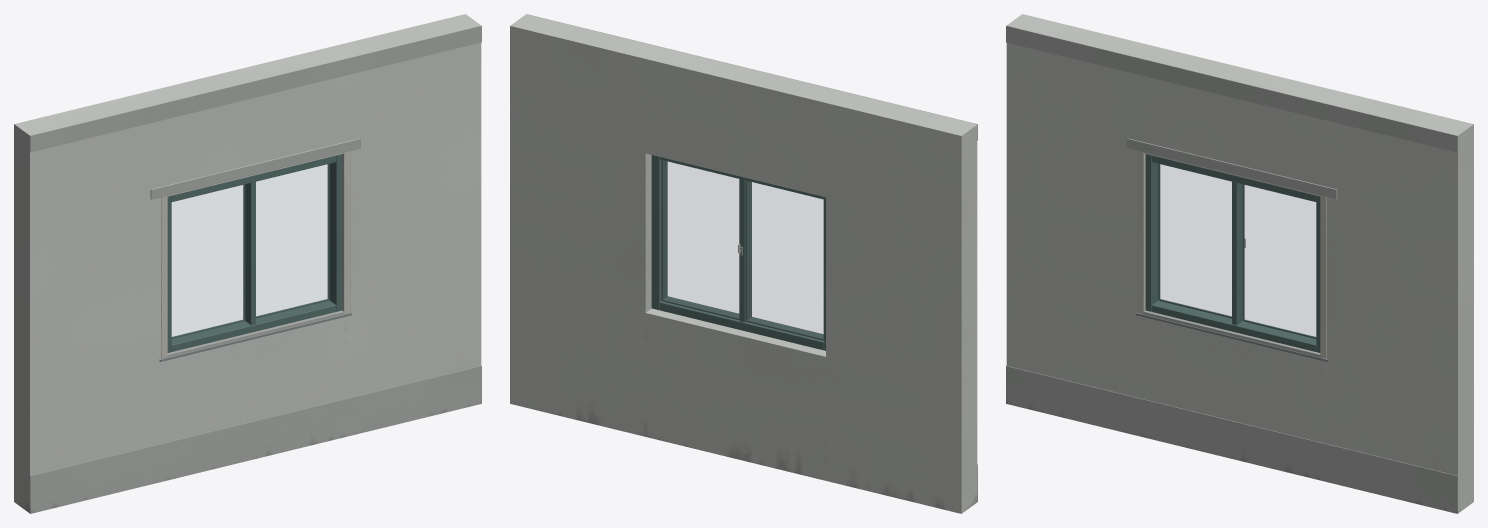
The model's file is facade_window_4m.glb.
3 renders of one model, left to right at view 1: azimuth 30°, elevation 25°; view 2: azimuth 150°, elevation 25°; view 3: azimuth 330°, elevation 25°, orthographic.
Visible parts, largest first — view 1: FacadeWindow; view 2: FacadeWindow; view 3: FacadeWindow.
Part boxes in pixels (<box>): FacadeWindow: <box>14,14,481,513</box>; FacadeWindow: <box>510,14,977,513</box>; FacadeWindow: <box>1006,14,1473,513</box>.
Size of what is drawn, in the model's own units: 4 by 3.2 by 0.25.
2 materials, 1 textured.
